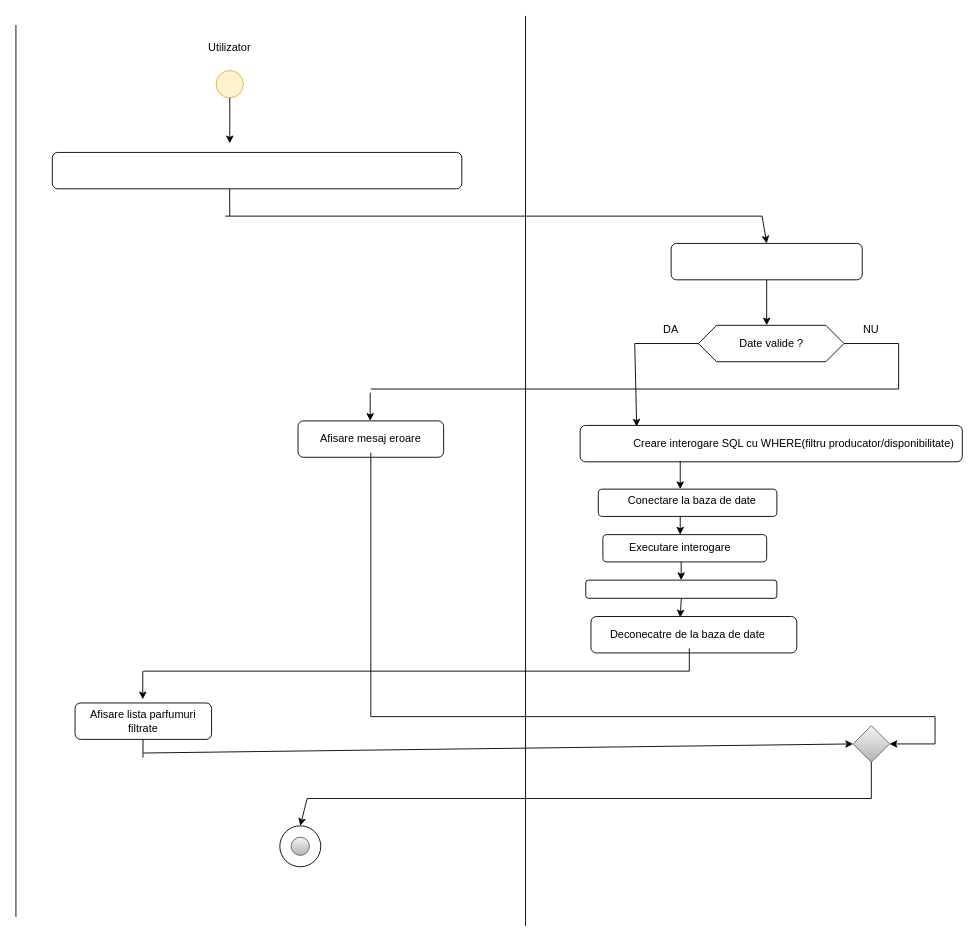
The diagram is 978 pixels wide and 943 high, and some of its shapes have lost their labels. Each missing label, with the box of its shape:
Introd. criterii filtrare(producator,disponibilitate): (51, 152, 462, 189)
preluare rezultate parfumuri filtrate: (585, 579, 777, 598)
Validare criterii: (670, 243, 862, 280)
